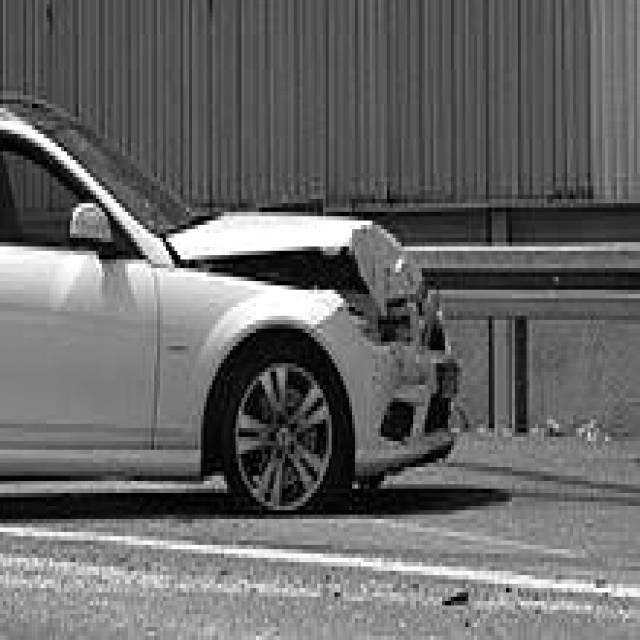bonnet-dent: (163, 186, 419, 298)
front-bumper-dent: (320, 321, 486, 476)
